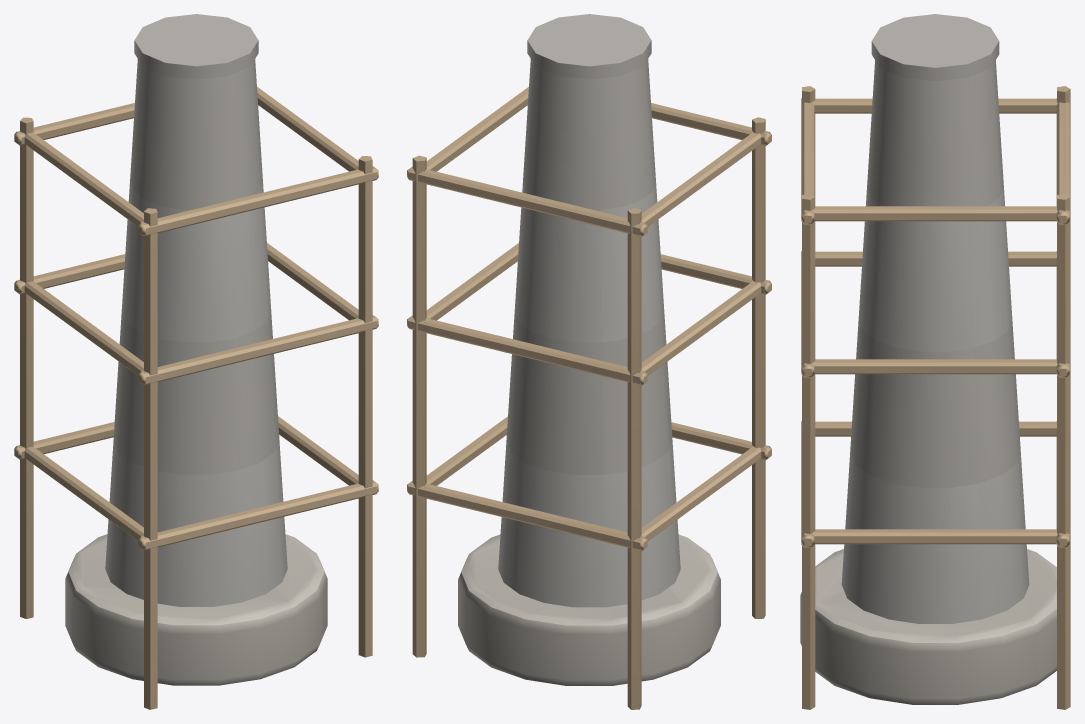
The model's file is lighthouse_ruin.glb.
3 renders of one model, left to right at view 1: azimuth 30°, elevation 25°; view 2: azimuth 150°, elevation 25°; view 3: azimuth 270°, elevation 25°, orthographic. The views are drawn at different scales.
Parts seen in each view (by area): view 1: lighthouse_ruin; view 2: lighthouse_ruin; view 3: lighthouse_ruin.
Part boxes in pixels (x1,y1,x2,y2): lighthouse_ruin: (14, 14, 378, 709); lighthouse_ruin: (407, 14, 771, 709); lighthouse_ruin: (800, 14, 1070, 709).
Size of the model in its own units: 1.5 by 3.6 by 1.44.
